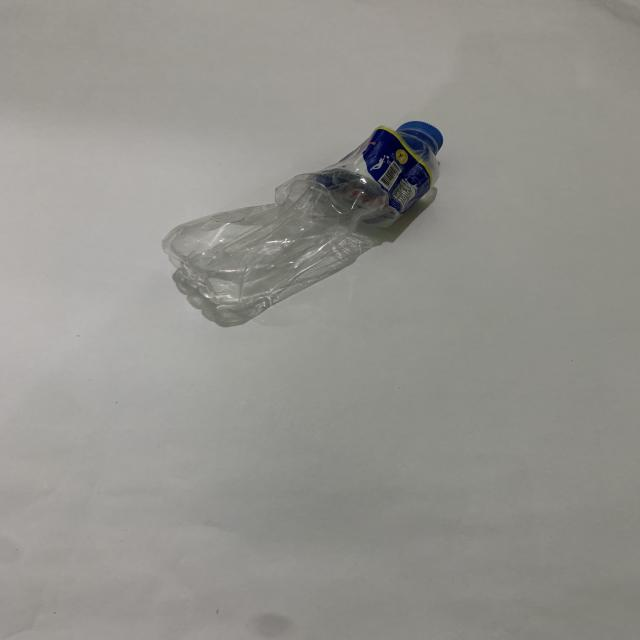bottle: (161, 114, 442, 330)
